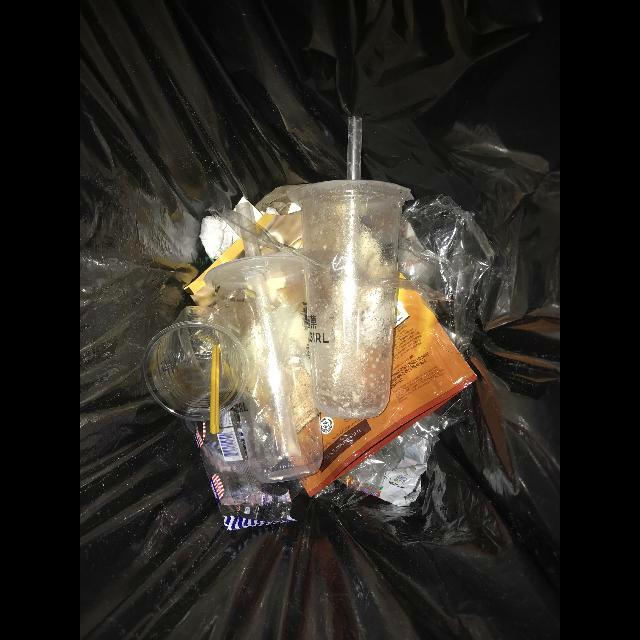food_wrapper: (300, 288, 476, 498), (195, 408, 303, 531), (338, 412, 455, 507)
plastic_bag: (399, 195, 496, 358)
plastic_container: (286, 180, 411, 421), (204, 255, 323, 484)
